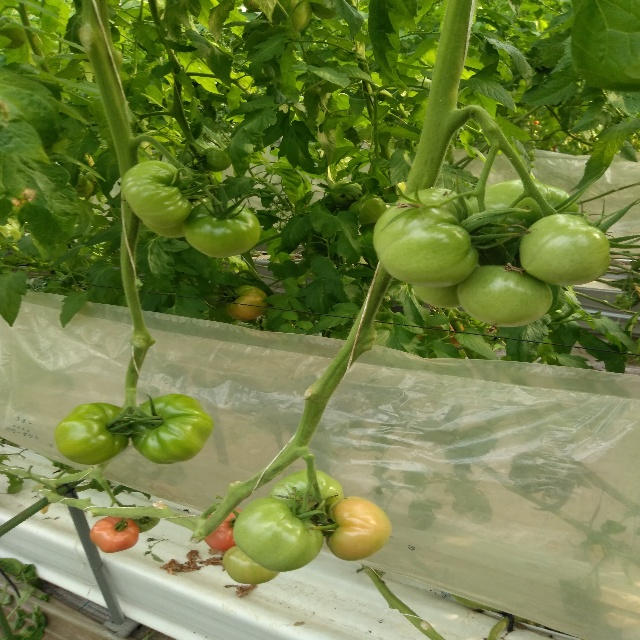b_green: (373, 188, 478, 287), (467, 179, 579, 267), (233, 498, 324, 572), (520, 214, 611, 287), (457, 265, 552, 327), (130, 394, 214, 464), (54, 402, 131, 465), (121, 160, 192, 228), (182, 200, 260, 258), (269, 469, 344, 524), (223, 545, 280, 584), (411, 284, 462, 308), (349, 195, 386, 224), (329, 180, 363, 207), (129, 506, 161, 533), (185, 183, 217, 209), (142, 219, 185, 238), (202, 147, 233, 172)
b_half_ripened: (326, 496, 392, 561), (90, 516, 140, 553), (204, 508, 242, 552), (226, 286, 269, 322)
